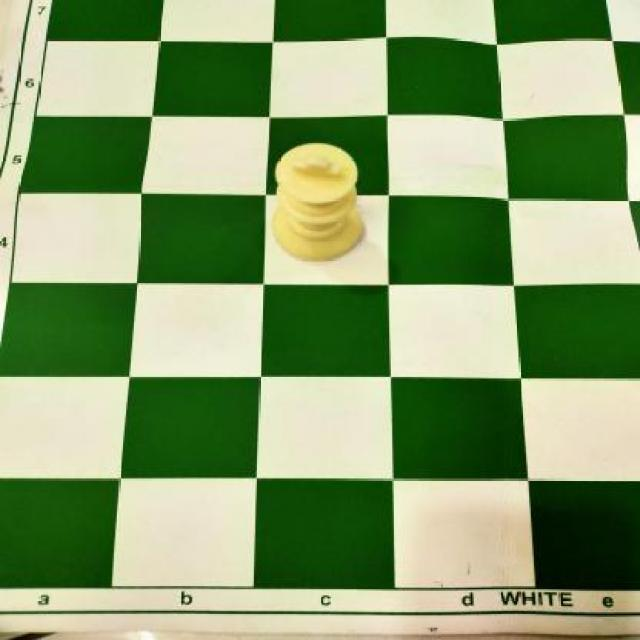white-king: (269, 143, 366, 262)
